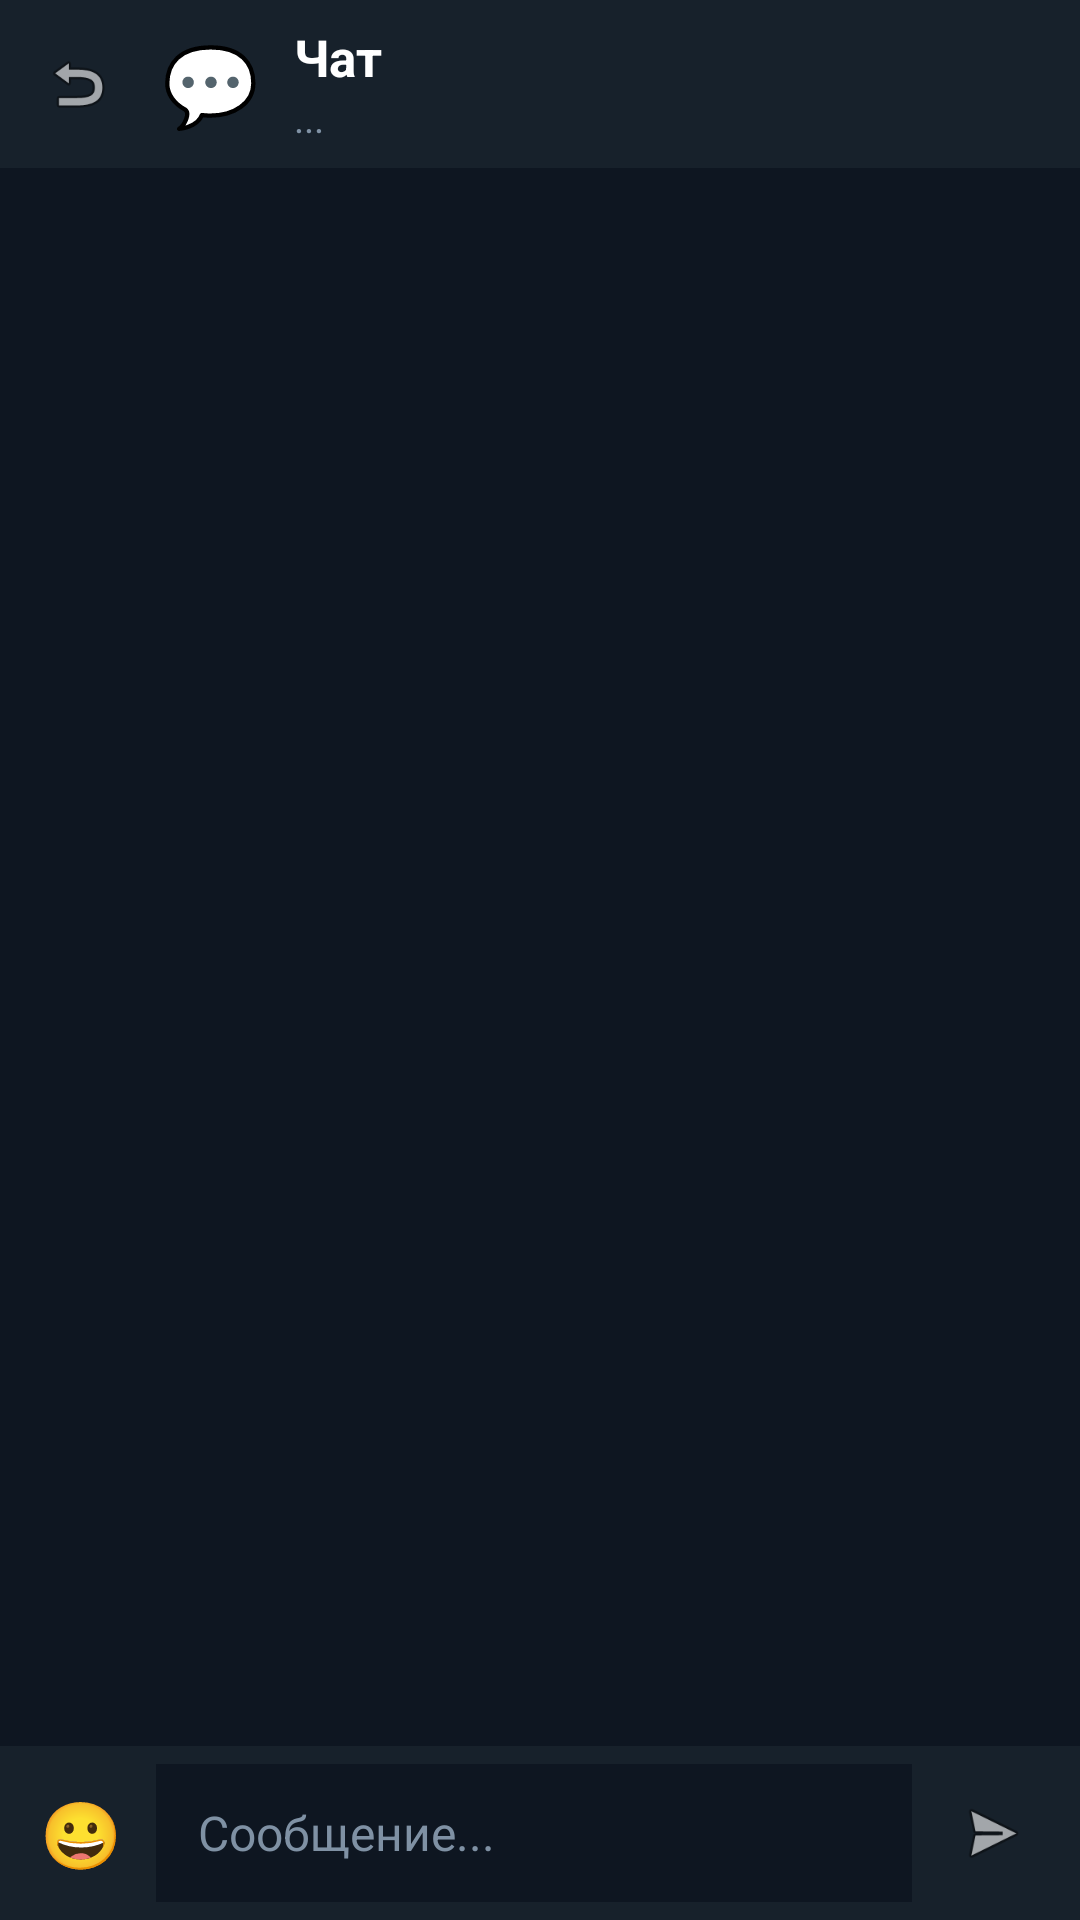

Icons on this 1080 x 1920 Android screen, each with its box as rect(x1, y1, x2, y2):
Назад: rect(55, 63, 103, 106)
Отправить: rect(971, 1811, 1016, 1856)
